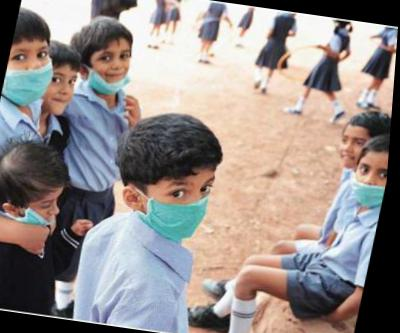NONE: (45, 67, 82, 118), (339, 130, 373, 171)
OK: (147, 164, 220, 244)
WRONG: (2, 34, 63, 106), (87, 44, 137, 96), (351, 156, 391, 212), (27, 186, 68, 234)
